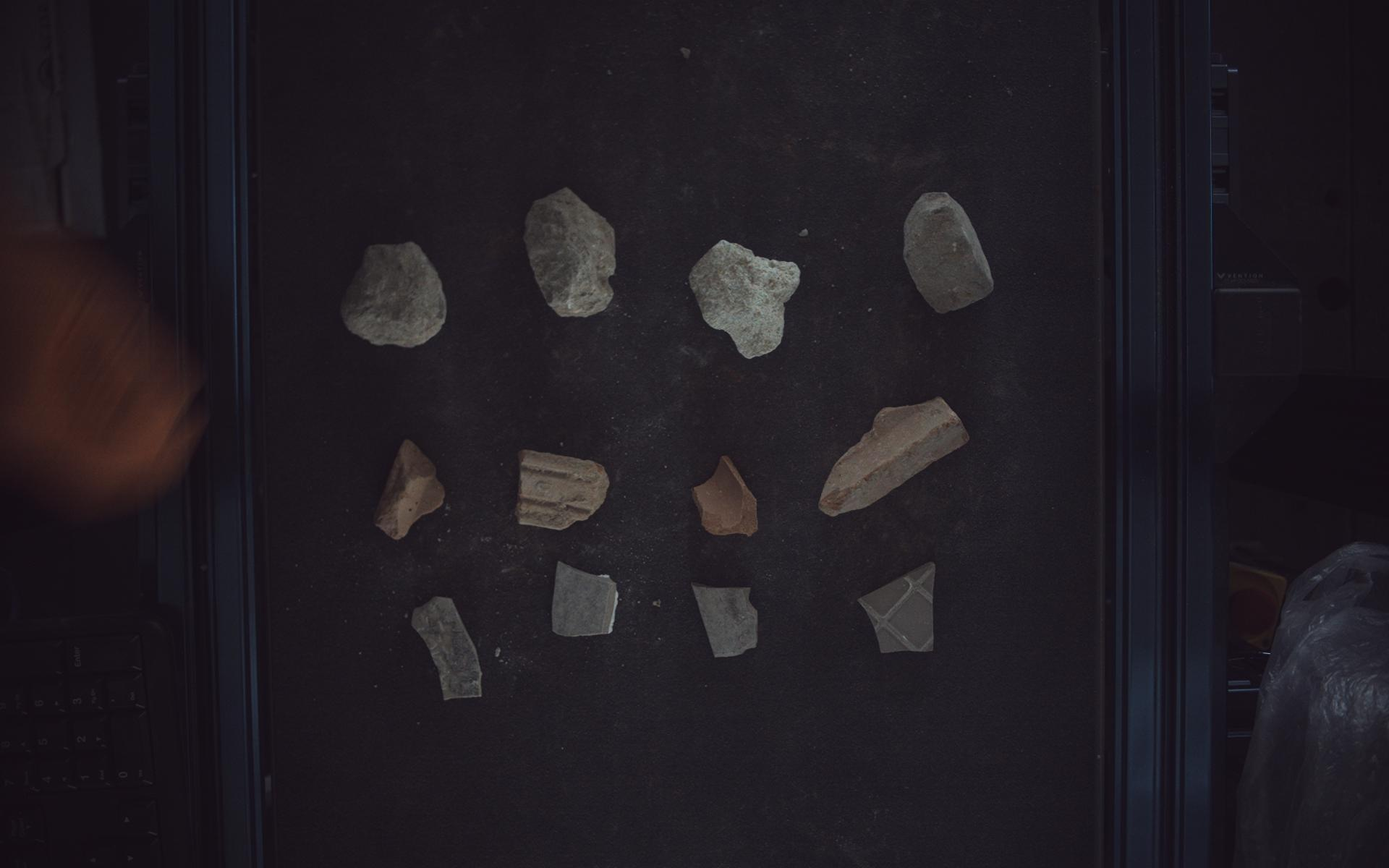brick: (820, 398, 971, 517), (516, 450, 610, 530), (374, 440, 445, 540), (693, 456, 759, 536)
concrete: (690, 239, 801, 358), (524, 187, 616, 317), (341, 242, 446, 347), (905, 191, 995, 313)
tile: (412, 597, 482, 702), (860, 563, 938, 654), (553, 562, 619, 637), (693, 584, 759, 658)
